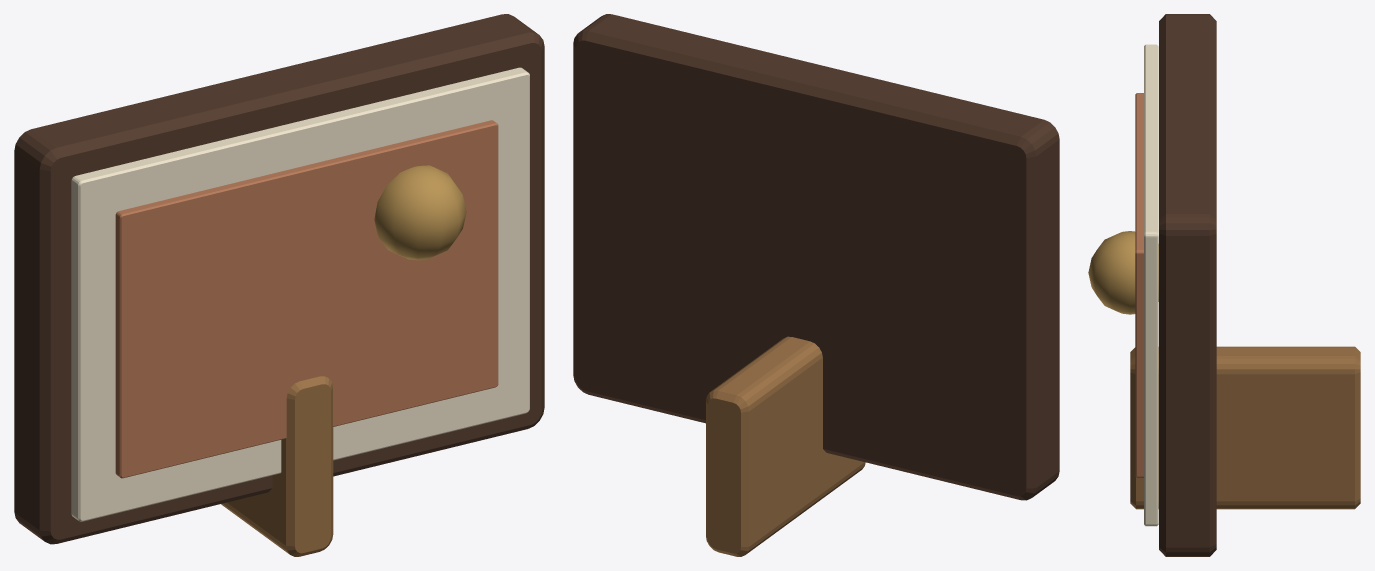
File: photograph.glb
The picture shows the model from 3 angles, left to right: view 1: azimuth 30°, elevation 25°; view 2: azimuth 150°, elevation 25°; view 3: azimuth 270°, elevation 25°; orthographic projection. The views are drawn at different scales.
Visible parts, largest first — view 1: Illustration, Frame, Mat, Stand, IllustrationSun; view 2: Frame, Stand; view 3: Frame, Stand, Mat, Illustration, IllustrationSun.
Part boxes in pixels (left/top/right/bottom): Illustration: left=115, top=120, right=498, bottom=478; Frame: left=14, top=14, right=544, bottom=544; Mat: left=71, top=67, right=529, bottom=521; Stand: left=221, top=376, right=333, bottom=556; IllustrationSun: left=374, top=165, right=466, bottom=260; Frame: left=573, top=14, right=1059, bottom=500; Stand: left=706, top=336, right=865, bottom=556; Frame: left=1159, top=14, right=1216, bottom=556; Stand: left=1130, top=346, right=1360, bottom=509; Mat: left=1144, top=44, right=1158, bottom=526; Illustration: left=1135, top=93, right=1143, bottom=477; IllustrationSun: left=1088, top=231, right=1158, bottom=314.
Bounding box in the file's own units: 0.48 × 0.41 × 0.26.
